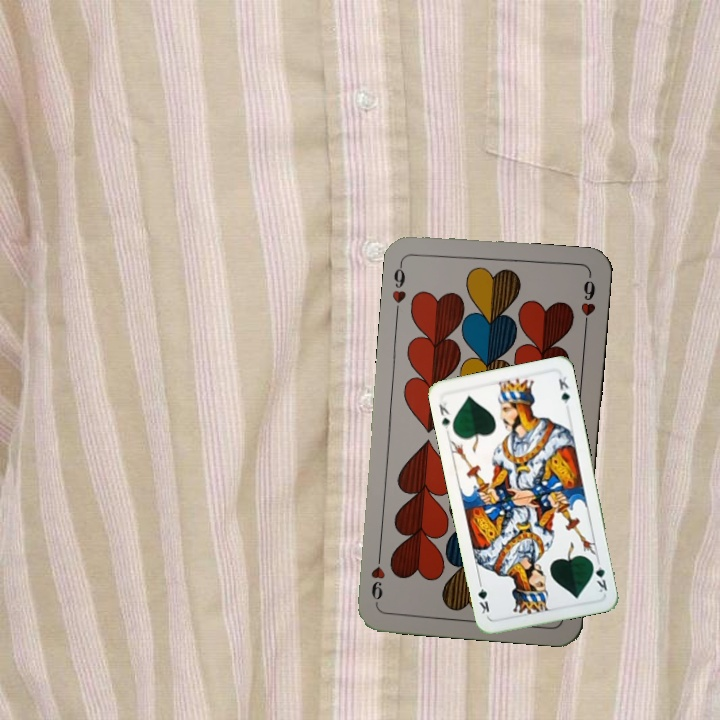GK: (588, 555, 610, 595), (435, 398, 453, 432)
H9: (388, 257, 409, 316)
